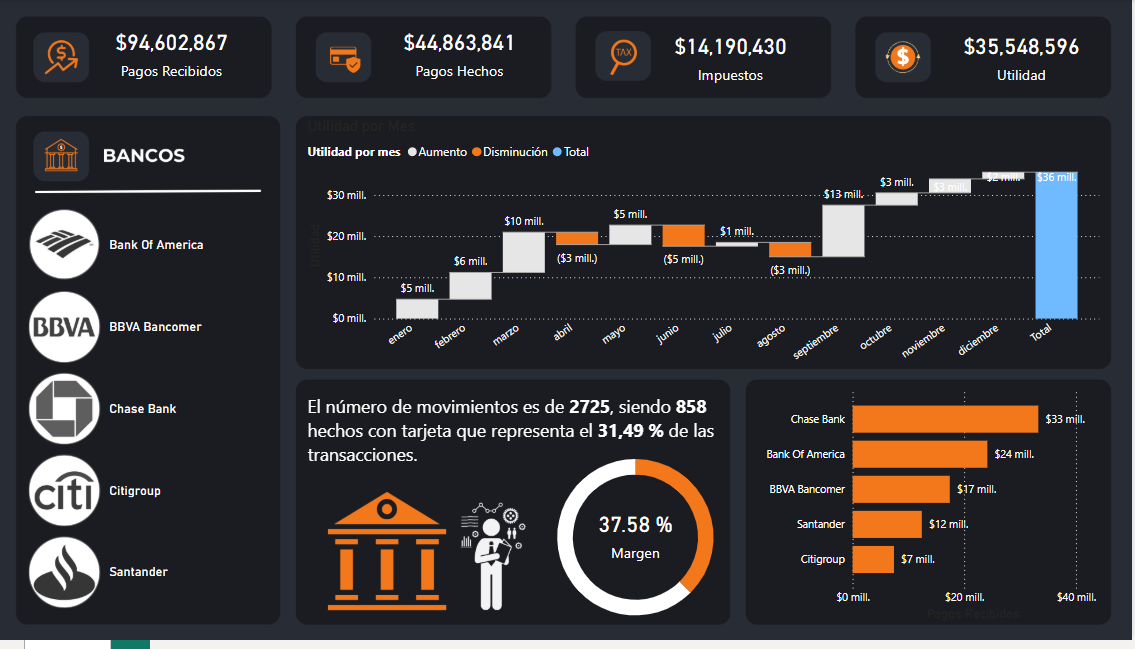

The dashboard page shown, as its layout file describes it:
{"tool":"powerbi","page":{"name":" Página 1","canvas":[1280,720],"ordinal":0},"visuals":[{"type":"card","fields":{"Values":["Finanzas.Pagos Recibidos"]},"box":[104.8,17,187.6,81.8],"z":0},{"type":"card","fields":{"Values":["Finanzas.Impuesto"]},"box":[733.3,25.9,187.6,72.8],"z":1000},{"type":"card","fields":{"Values":["Finanzas.Pagos Hechos"]},"box":[429,17,187.6,81.8],"z":2000},{"type":"card","fields":{"Values":["Finanzas.Utilidad"]},"box":[1060.5,25.9,187.6,72.8],"z":3000},{"type":"waterfallChart","fields":{"Category":["Finanzas.Fecha de movimiento.Variación.Jerarquía de fechas.Mes"],"Y":["Finanzas.Utilidad"]},"box":[346.1,131.3,901.3,296.2],"z":4000},{"type":"card","fields":{"Values":["Finanzas.Porcentaje Utilidad"]},"box":[614.6,541.7,212.5,115.7],"z":5000},{"type":"donutChart","fields":{"Y":["Finanzas.Porcentaje Utilidad","Finanzas.Margen guía"]},"box":[572.7,489.9,296.3,230.5],"z":6000},{"type":"advancedSlicerVisual","fields":{"Values":["Finanzas.Banco"]},"box":[31.4,228.8,282.3,465.8],"z":7000},{"type":"enlightenDataStoryDDFB78A6143E42CFAFBC50CCF18D978D","fields":{"measure":["Finanzas.Cantidad Movimientos","Finanzas.Movimientos con tarjeta","Finanzas.% Tarjeta"]},"box":[346.2,437.5,467.5,103.8],"z":8000},{"type":"clusteredBarChart","fields":{"Category":["Finanzas.Banco"],"Y":["Finanzas.Pagos Recibidos"]},"box":[854.9,427.4,410,276.4],"z":9000}]}

Visuals, with their boxes in screenshot pixels (x1, y1, x2, y2), scaled from the page's 1280x720 canvas onto the 1135x649 screenshot:
card - Finanzas.Pagos Recibidos: [left=93, top=15, right=259, bottom=89]
card - Finanzas.Impuesto: [left=650, top=23, right=817, bottom=89]
card - Finanzas.Pagos Hechos: [left=380, top=15, right=547, bottom=89]
card - Finanzas.Utilidad: [left=940, top=23, right=1107, bottom=89]
waterfallChart - Finanzas.Fecha de movimiento.Variación.Jerarquía de fechas.Mes x Finanzas.Utilidad: [left=307, top=118, right=1106, bottom=385]
card - Finanzas.Porcentaje Utilidad: [left=545, top=488, right=733, bottom=593]
donutChart - Finanzas.Porcentaje Utilidad x Finanzas.Margen guía: [left=508, top=442, right=771, bottom=648]
advancedSlicerVisual - Finanzas.Banco: [left=28, top=206, right=278, bottom=626]
enlightenDataStoryDDFB78A6143E42CFAFBC50CCF18D978D - Finanzas.Cantidad Movimientos x Finanzas.Movimientos con tarjeta: [left=307, top=394, right=722, bottom=488]
clusteredBarChart - Finanzas.Banco x Finanzas.Pagos Recibidos: [left=758, top=385, right=1122, bottom=634]
